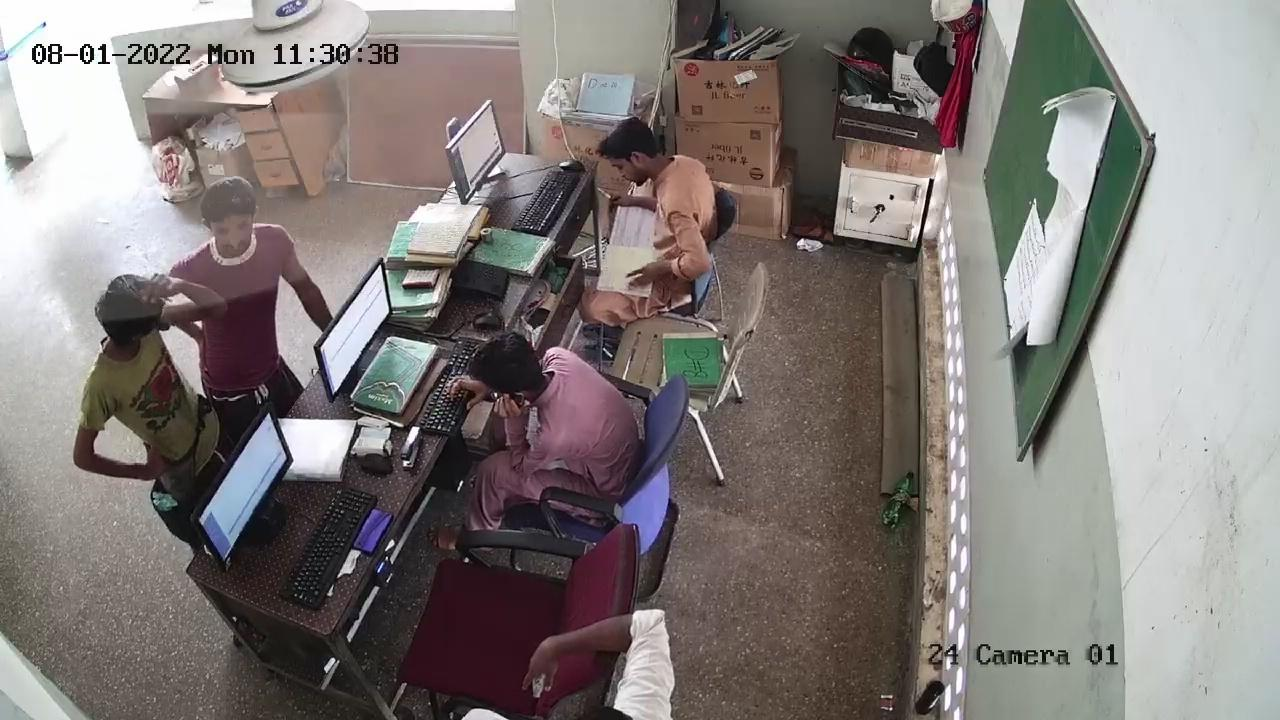person: (474, 337, 647, 503), (584, 122, 725, 305), (192, 197, 290, 443), (111, 297, 217, 487)
